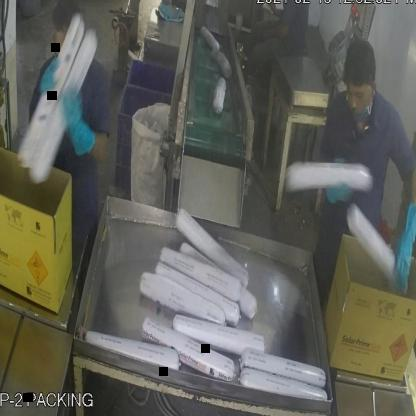glove: (61, 82, 100, 170), (390, 191, 416, 295)
no_glove: (256, 4, 292, 45)
